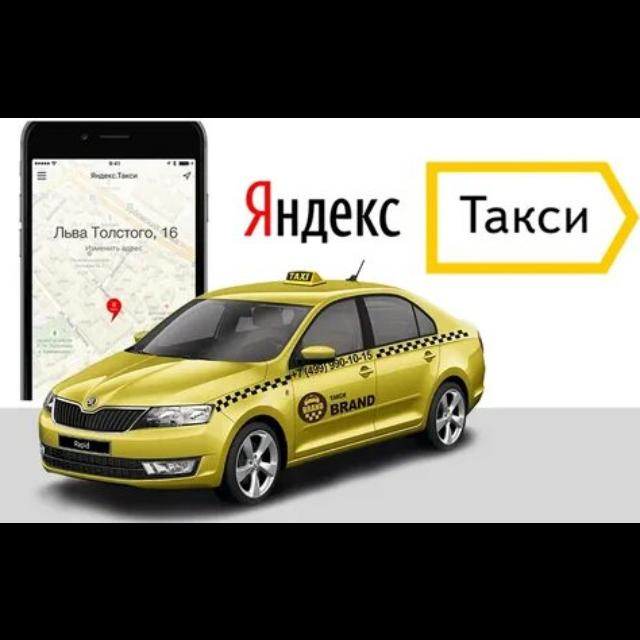taxi: (38, 259, 486, 506)
